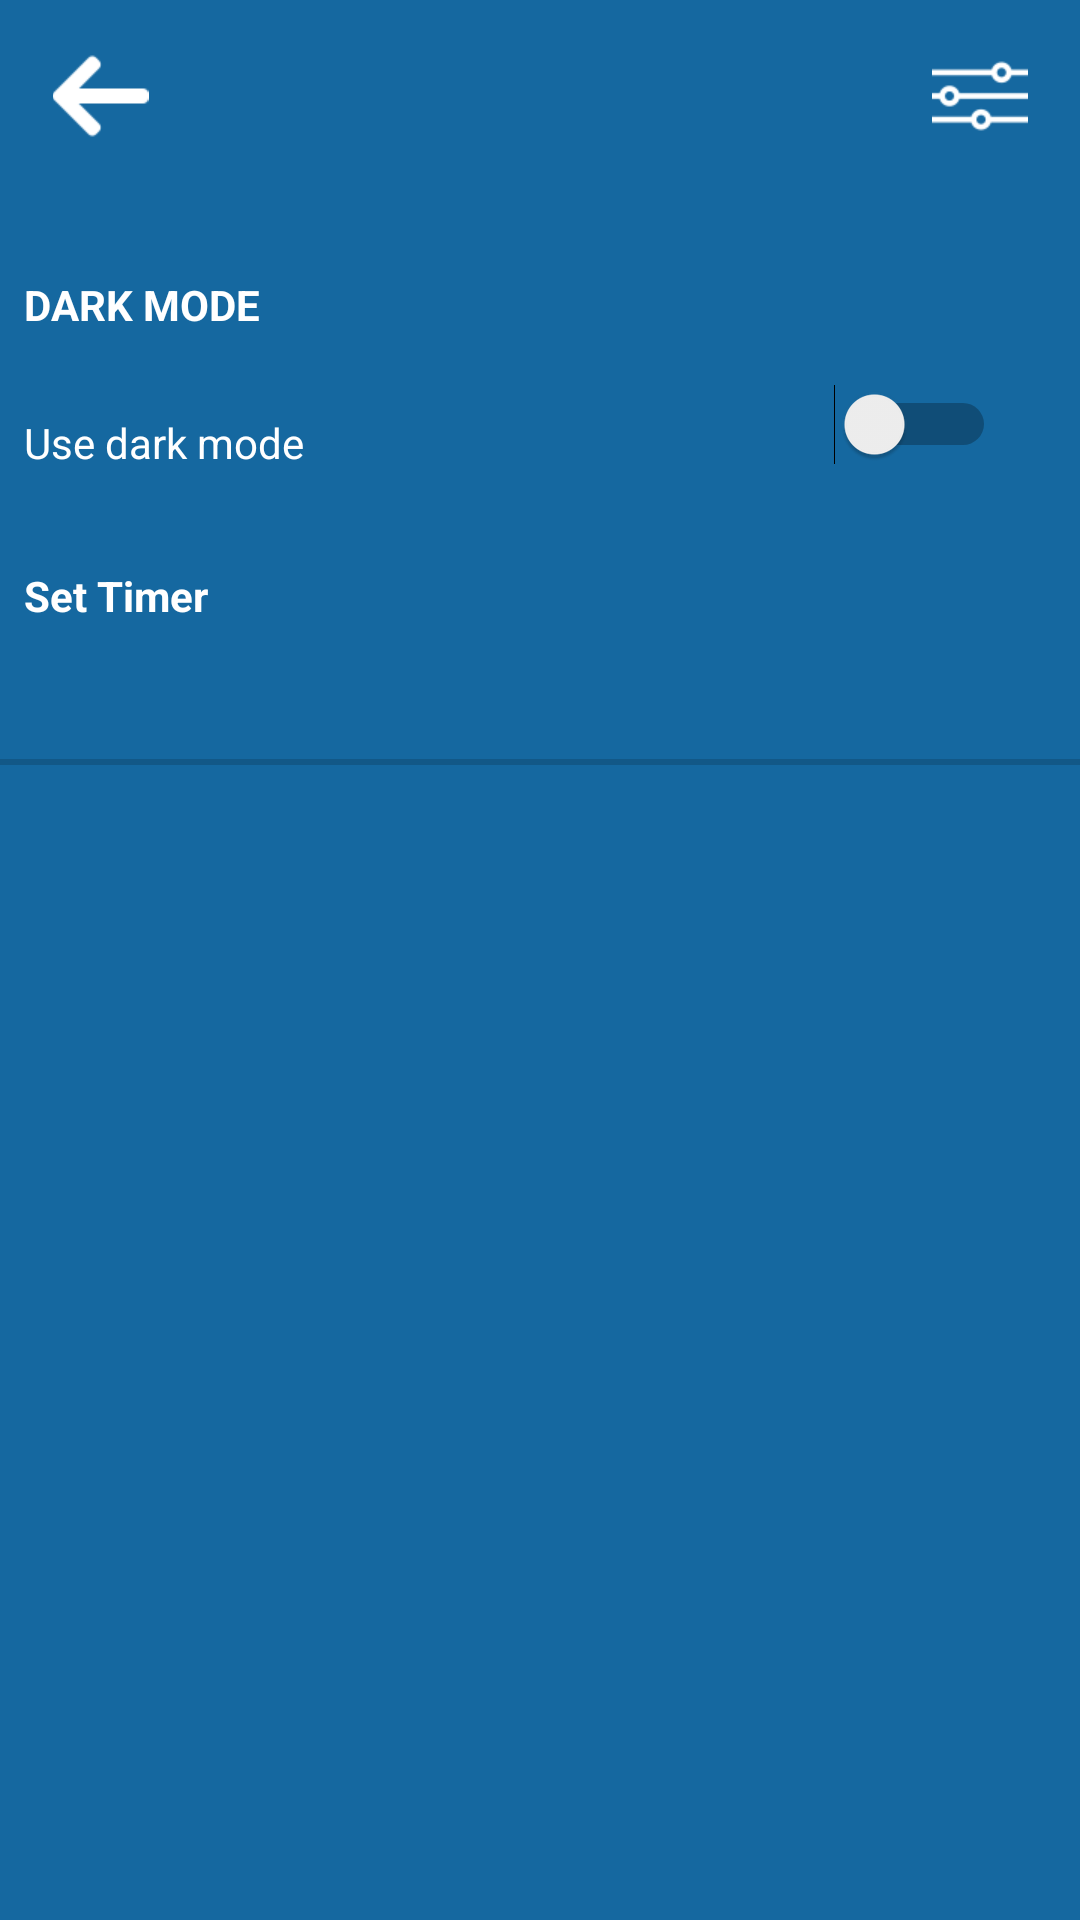

Point at icon controls on the screen. Image size 1080×1920, points as (x,y).
back: (101,96)
slider: (980,96)
